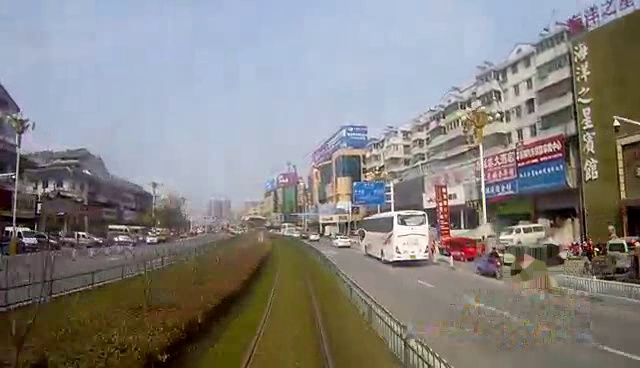bus: (360, 209, 437, 265)
